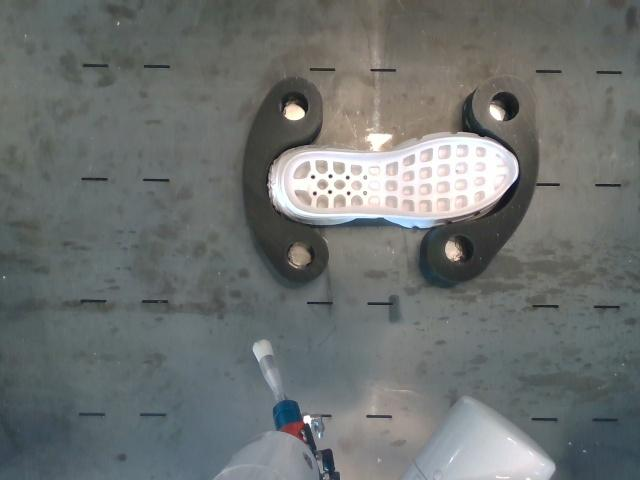shoes: (284, 138, 516, 218)
